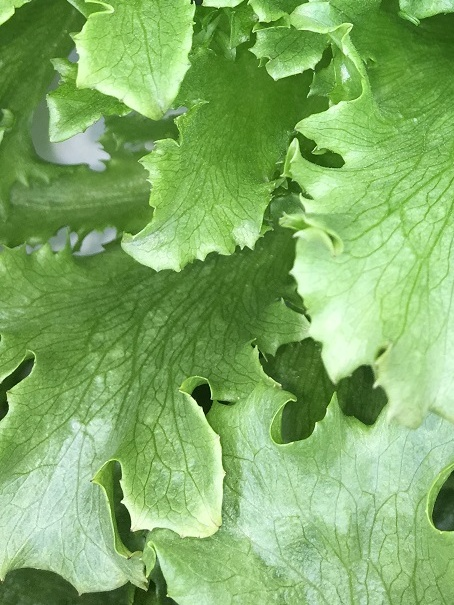tipburn: (85, 474, 101, 488), (328, 247, 340, 263), (120, 551, 132, 565)
